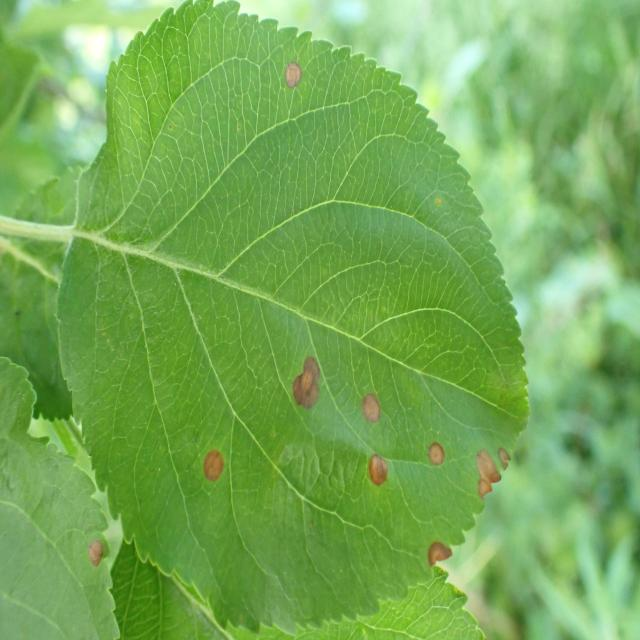Black Rot: (198, 425, 236, 510), (352, 375, 398, 445), (271, 36, 319, 101), (471, 428, 512, 503), (287, 353, 329, 418), (411, 530, 461, 580), (409, 422, 453, 477), (357, 447, 396, 509)
